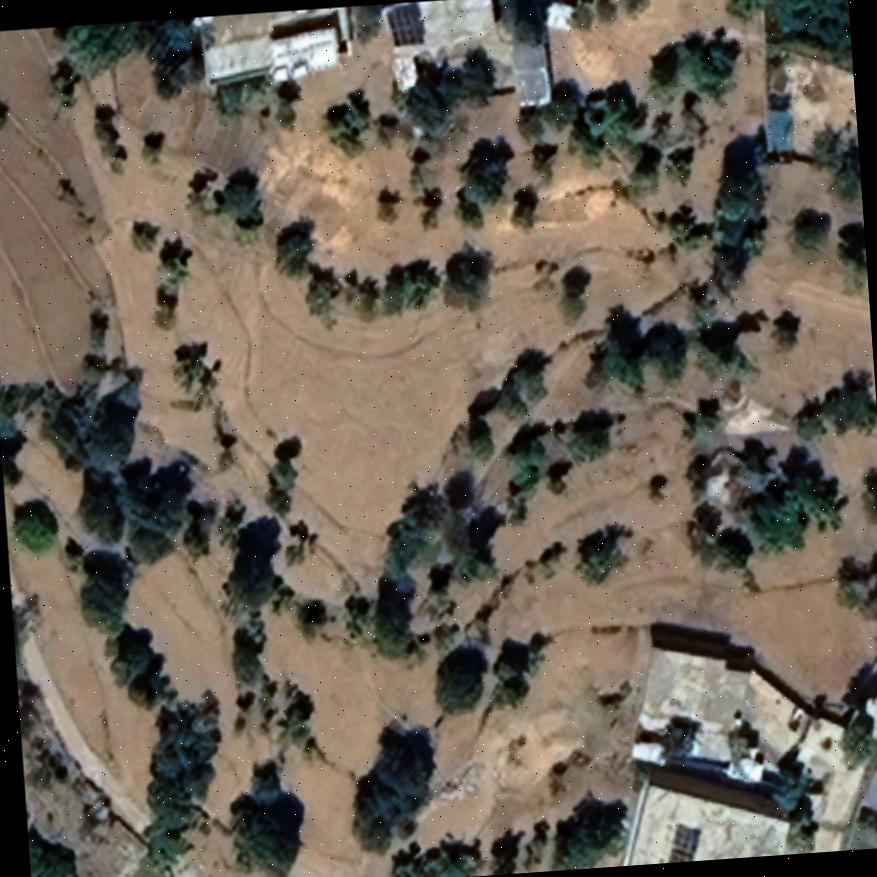Solarpanel: (380, 0, 430, 51), (660, 818, 705, 862)
